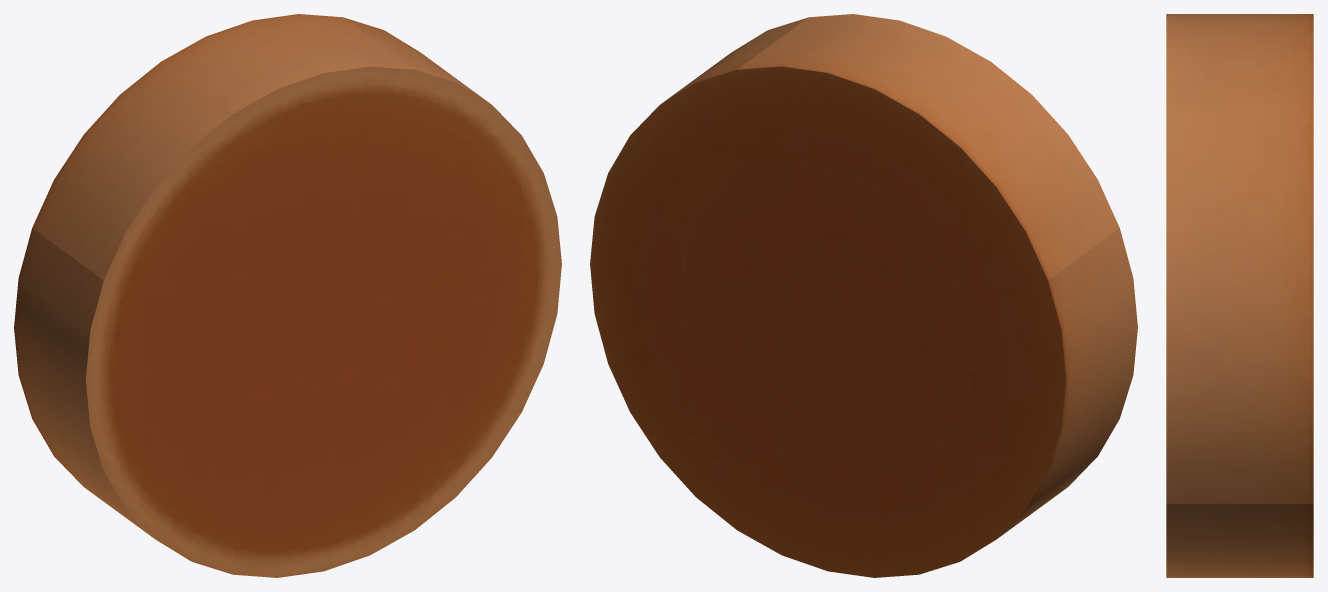
The model's file is pedestal__pedestal_collar.glb.
3 views of the same model, side by side, from view 1: azimuth 30°, elevation 25°; view 2: azimuth 150°, elevation 25°; view 3: azimuth 270°, elevation 25° (orthographic). The views are drawn at different scales.
Parts seen in each view (by area): view 1: geometry_0; view 2: geometry_0; view 3: geometry_0.
Boxes of the visible parts, left/top/right/bottom form: geometry_0: left=14, top=14, right=561, bottom=577; geometry_0: left=590, top=14, right=1137, bottom=577; geometry_0: left=1166, top=14, right=1313, bottom=577.
Size of the model in its own units: 0.092 by 0.092 by 0.024.
1 material, 1 textured.
